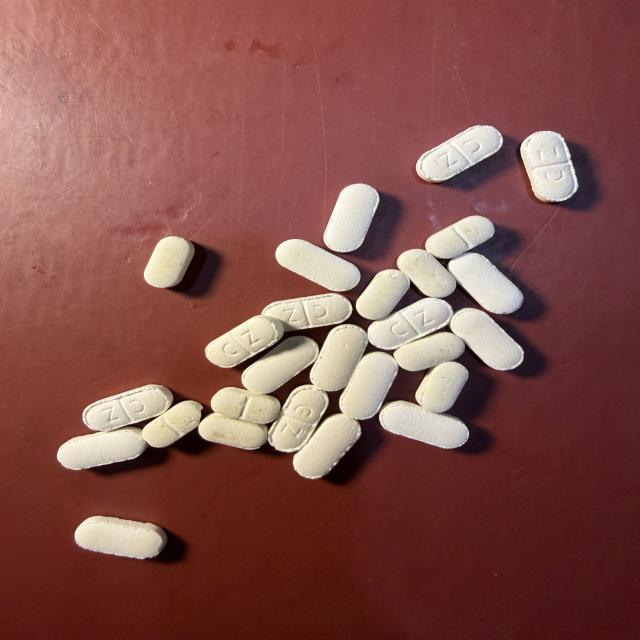pill: (417, 126, 502, 182), (448, 253, 523, 314), (450, 308, 523, 370), (293, 414, 361, 479), (276, 239, 360, 291), (242, 336, 318, 393), (368, 298, 452, 349), (83, 385, 173, 431), (380, 401, 468, 448), (206, 315, 284, 367), (521, 131, 577, 202), (269, 385, 328, 452), (75, 516, 166, 559), (340, 352, 398, 419), (310, 325, 368, 391), (324, 184, 379, 252), (58, 427, 147, 469), (263, 294, 352, 331), (426, 216, 494, 258), (142, 401, 202, 447), (398, 249, 455, 297), (394, 332, 464, 371), (416, 362, 468, 413), (356, 270, 409, 319), (144, 237, 194, 287), (211, 387, 280, 423), (199, 413, 267, 449)
